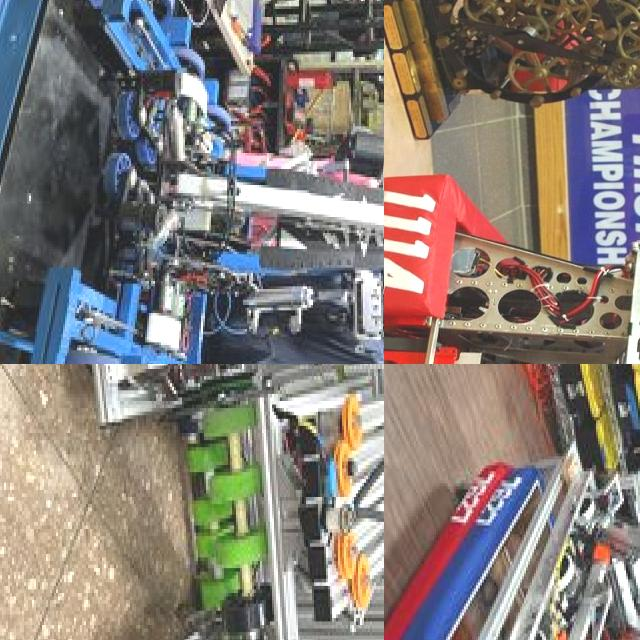FRC-Robots: (10, 0, 384, 364), (88, 364, 384, 640), (384, 150, 640, 364), (501, 447, 640, 640)
